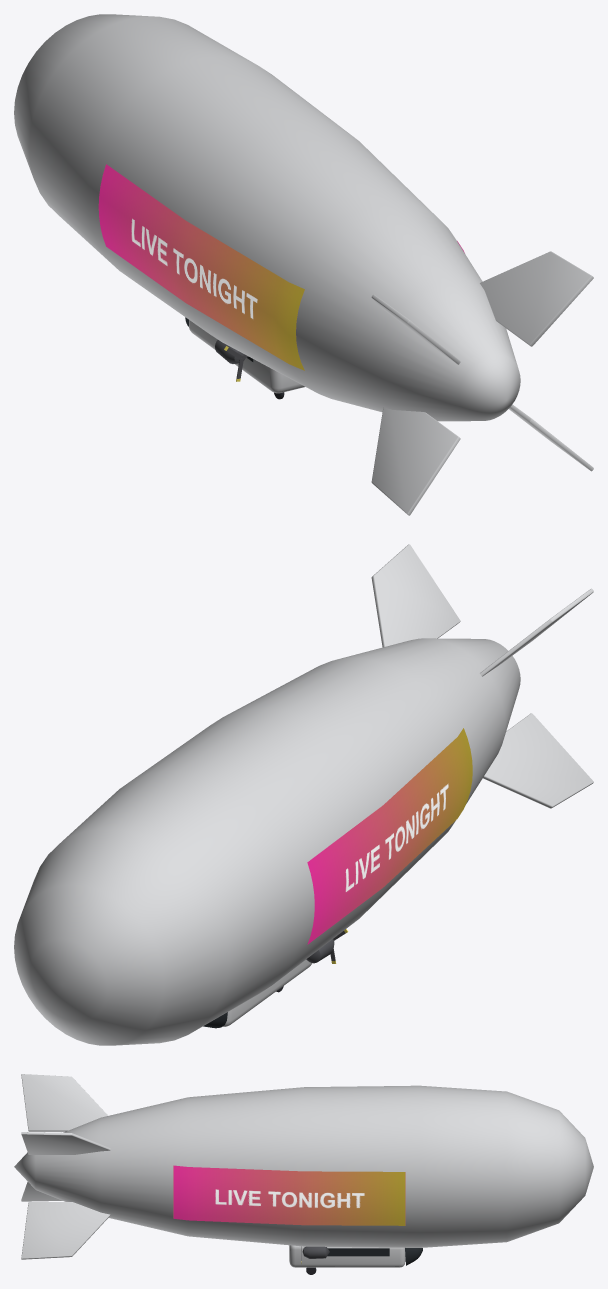
File: blimp_screen.gltf
3 views of the same model, one above another, from view 1: azimuth 30°, elevation 25°; view 2: azimuth 150°, elevation 25°; view 3: azimuth 270°, elevation 25° (orthographic). The views are drawn at different scales.
Parts seen in each view (by area): view 1: blimp_screen; view 2: blimp_screen; view 3: blimp_screen.
Part boxes in pixels (bbox=[...]): blimp_screen: bbox=[14, 14, 593, 515]; blimp_screen: bbox=[14, 544, 593, 1045]; blimp_screen: bbox=[14, 1074, 593, 1274].
Size of the model in its own units: 11.23 by 13.8 by 40.
Materials: 8 (4 with a texture image).
